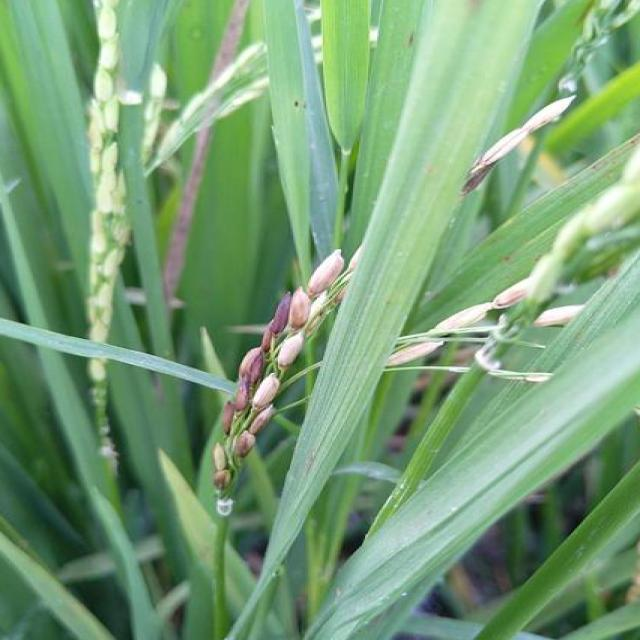Panicle Blight: (209, 251, 341, 492), (463, 97, 572, 195), (493, 282, 527, 310)
